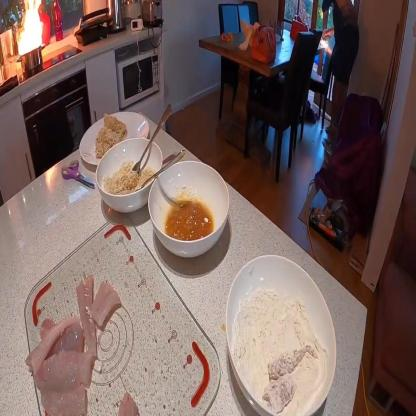fire: (15, 1, 44, 60), (320, 35, 333, 57)
